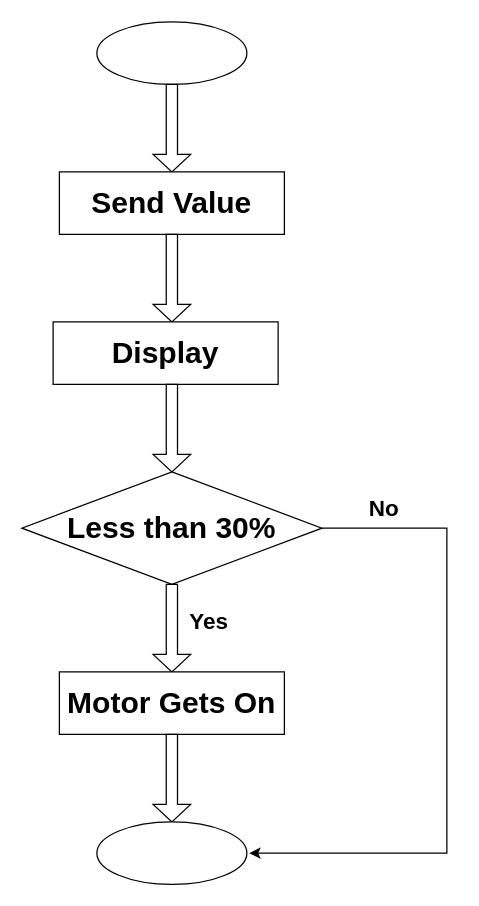
The diagram is 479 pixels wide and 906 high, and some of its shapes have lost their labels. The centre of each missing label's shape, as x and y in pixels:
End: pixel 171 852
Start: pixel 171 52
